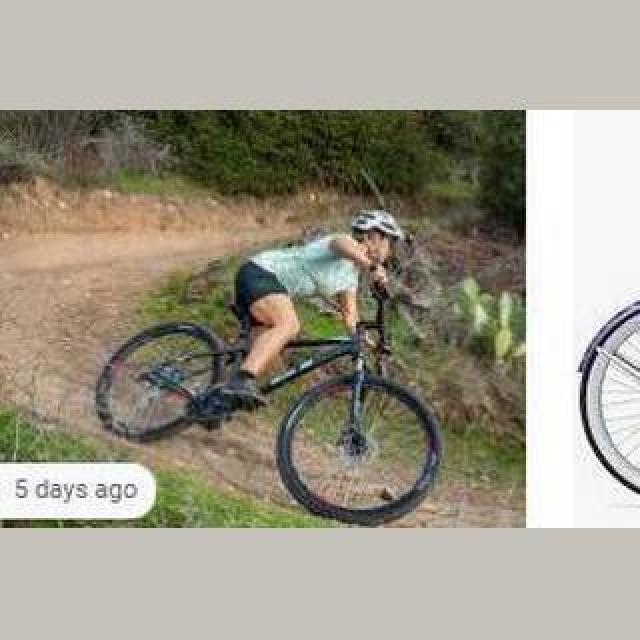MC-Bike: (224, 210, 406, 414)
Person: (93, 308, 447, 528), (574, 300, 640, 496)
